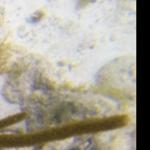dead: (1, 1, 135, 148)
